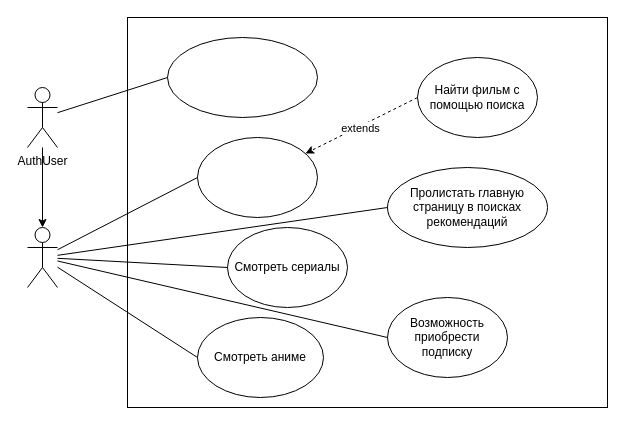
The diagram is 625 pixels wide and 425 high, and some of its shapes have lost their labels. Each missing label, with the centre of its shape:
User: pixel 42 257
Зайти в раздел купленных фильмов и посмотреть его: pixel 242 77
Смотреть фильмы: pixel 257 177
